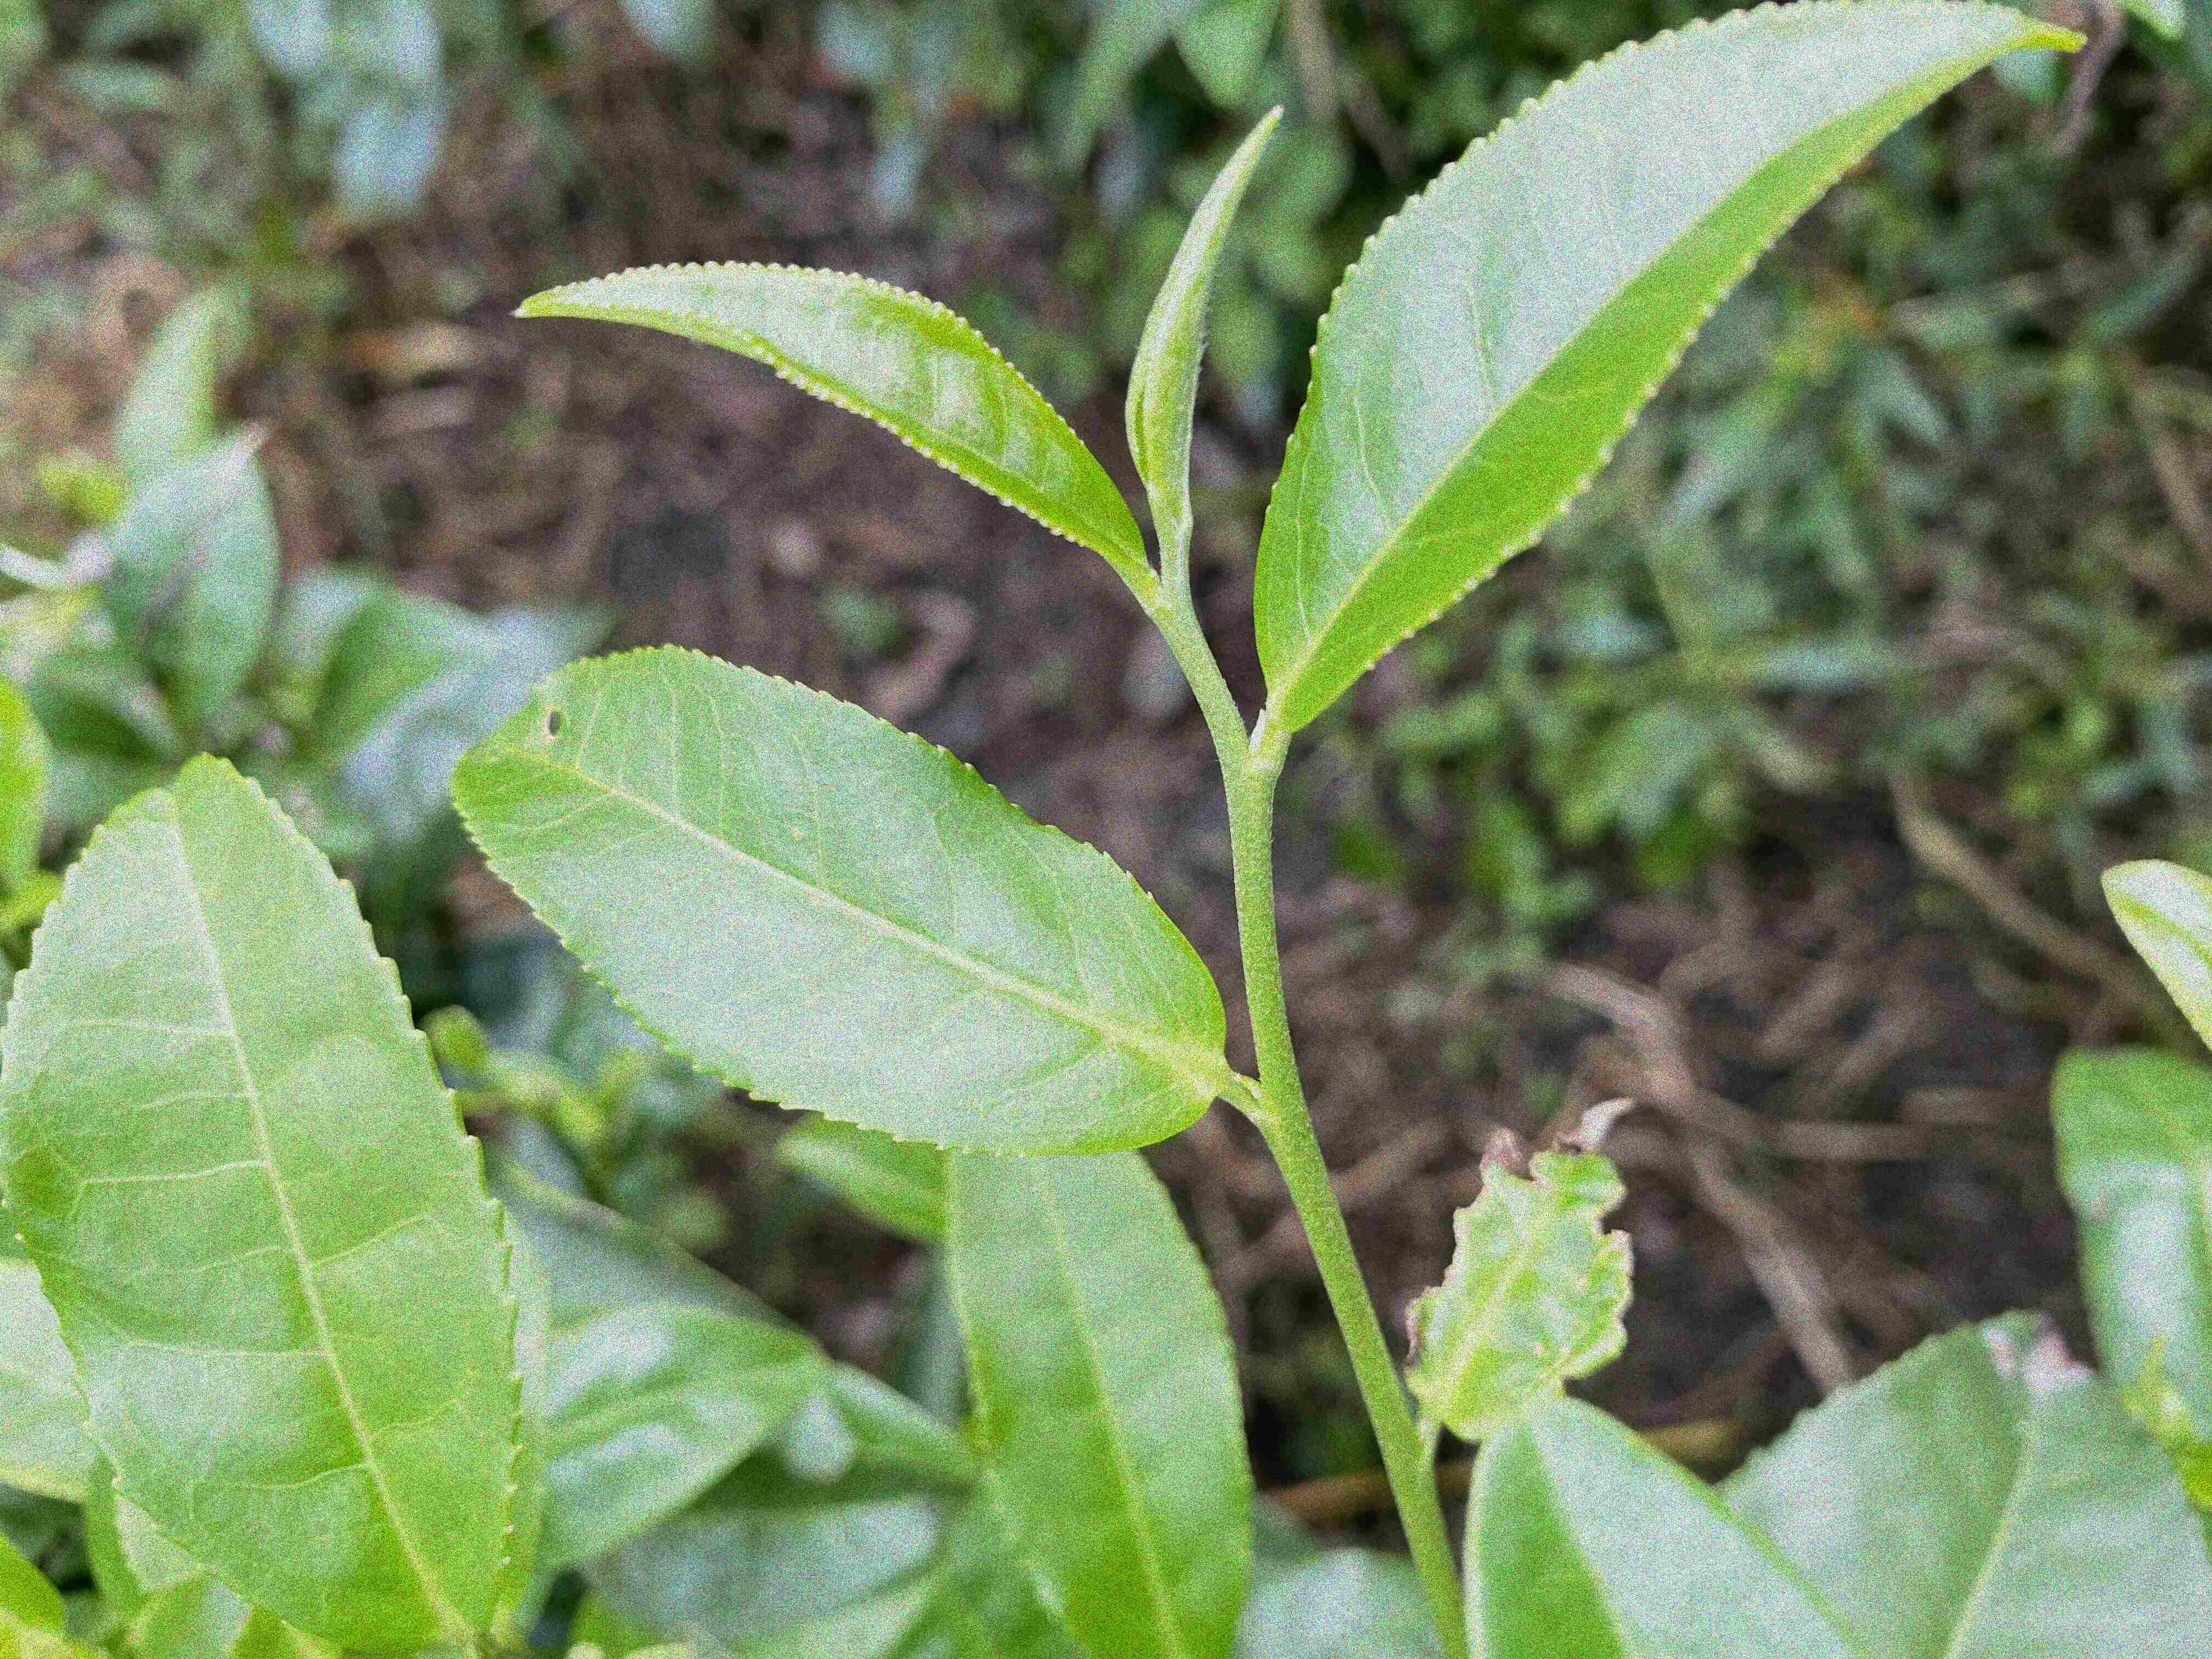chihuo_high: (1402, 1096, 1642, 1446)
chihuo_low: (444, 641, 1228, 1161)
healthy: (1249, 2, 2092, 728), (2, 753, 528, 1656), (509, 258, 1144, 575)
